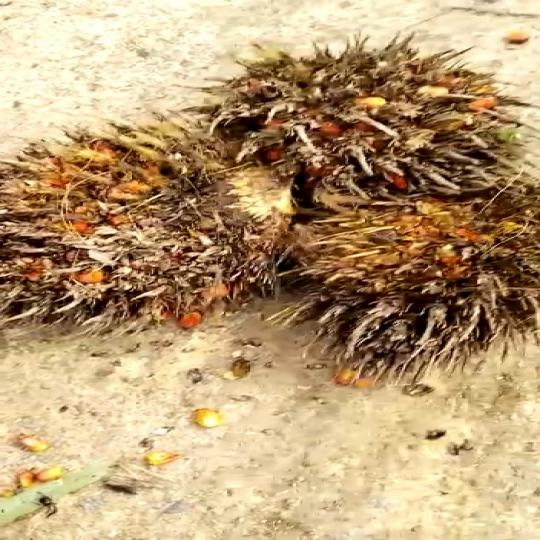terlalu masak: (0, 126, 309, 338), (165, 40, 540, 199), (270, 167, 540, 380)
